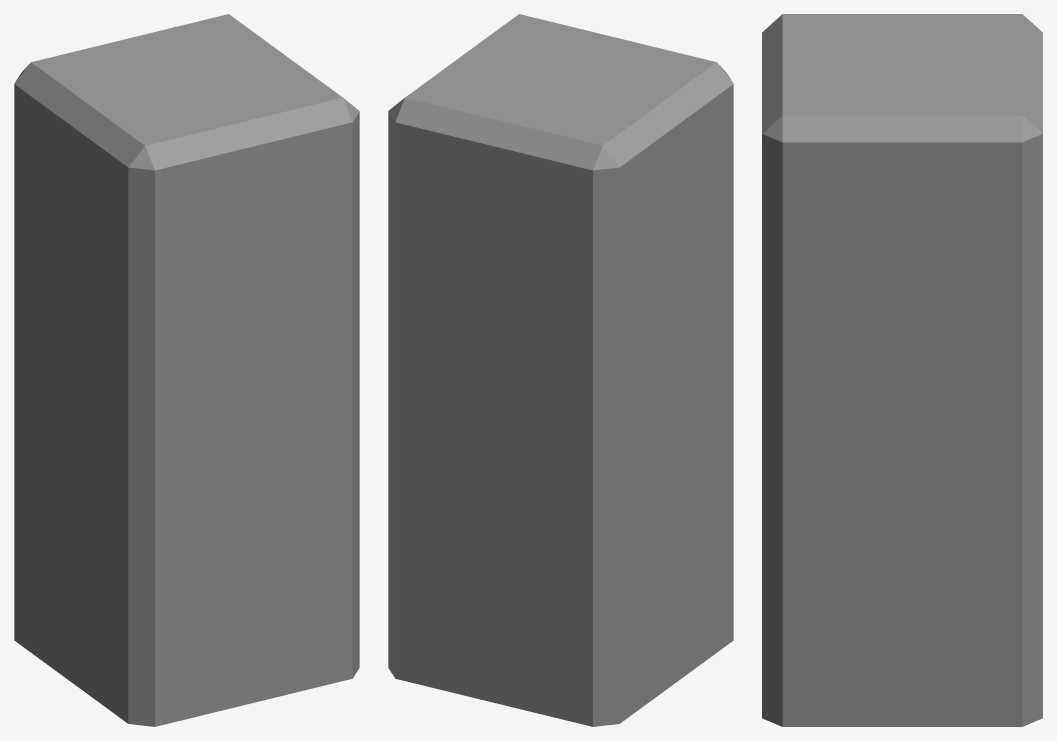
The model's file is fence_B_post.FBX.
3 renders of one model, left to right at view 1: azimuth 30°, elevation 25°; view 2: azimuth 150°, elevation 25°; view 3: azimuth 270°, elevation 25°, orthographic. The views are drawn at different scales.
Visible parts, largest first — view 1: fence_b_post; view 2: fence_b_post; view 3: fence_b_post.
Boxes of the visible parts, x1,y1,x2,y2 form: fence_b_post: [14, 14, 359, 726]; fence_b_post: [388, 14, 733, 726]; fence_b_post: [762, 14, 1042, 726].
Size of the model in its own units: 19.69 by 46.66 by 19.69.
